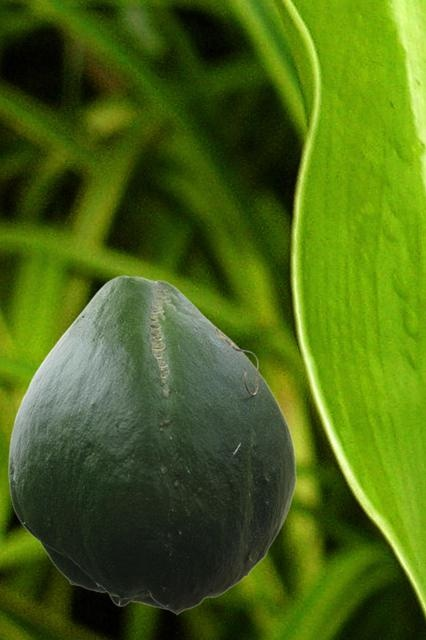sayote: (8, 275, 295, 614)
